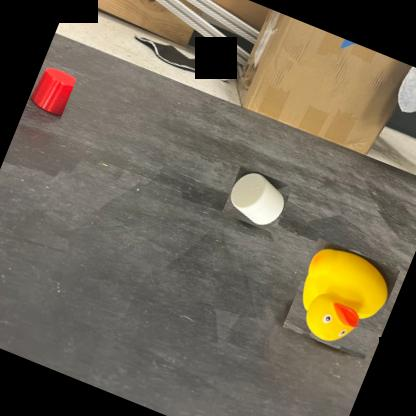duck: (282, 238, 400, 359)
red cylinder: (25, 62, 77, 119)
white cylinder: (221, 165, 293, 234)
